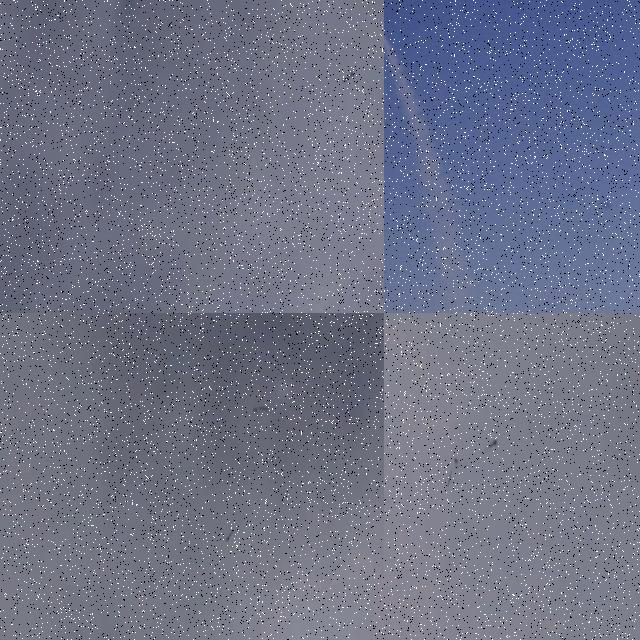Rocket: (342, 70, 354, 84), (489, 438, 497, 449), (226, 530, 233, 542)
